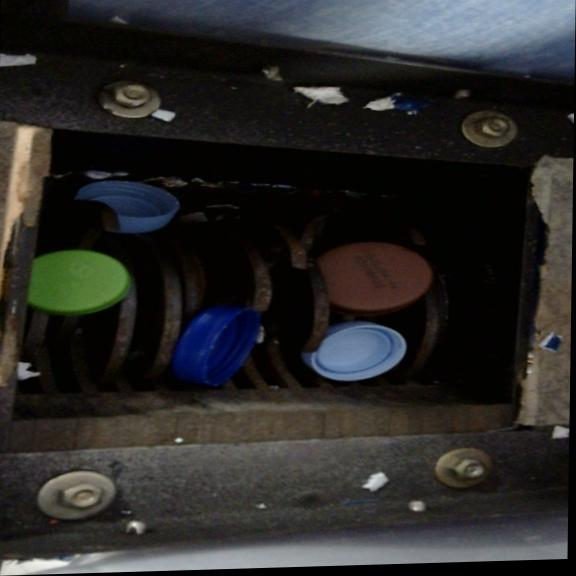Plastik: (283, 220, 438, 320), (154, 295, 269, 402), (0, 251, 142, 327), (52, 171, 190, 243), (288, 319, 424, 389)
